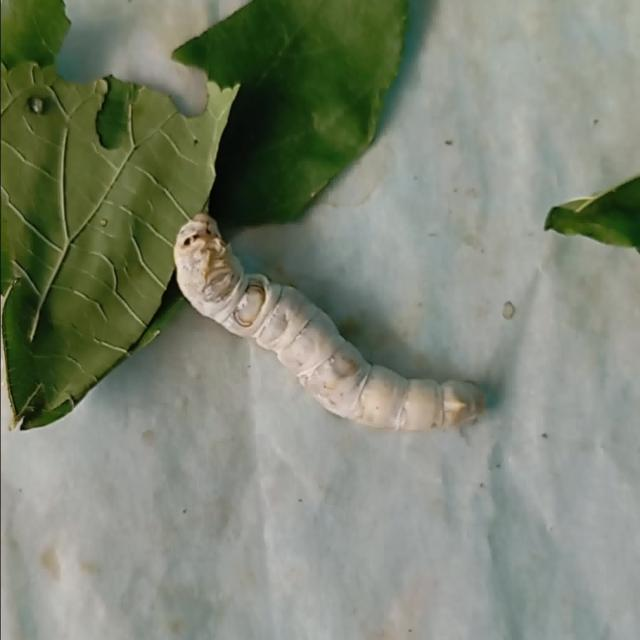Grasserie: (163, 194, 493, 459)
